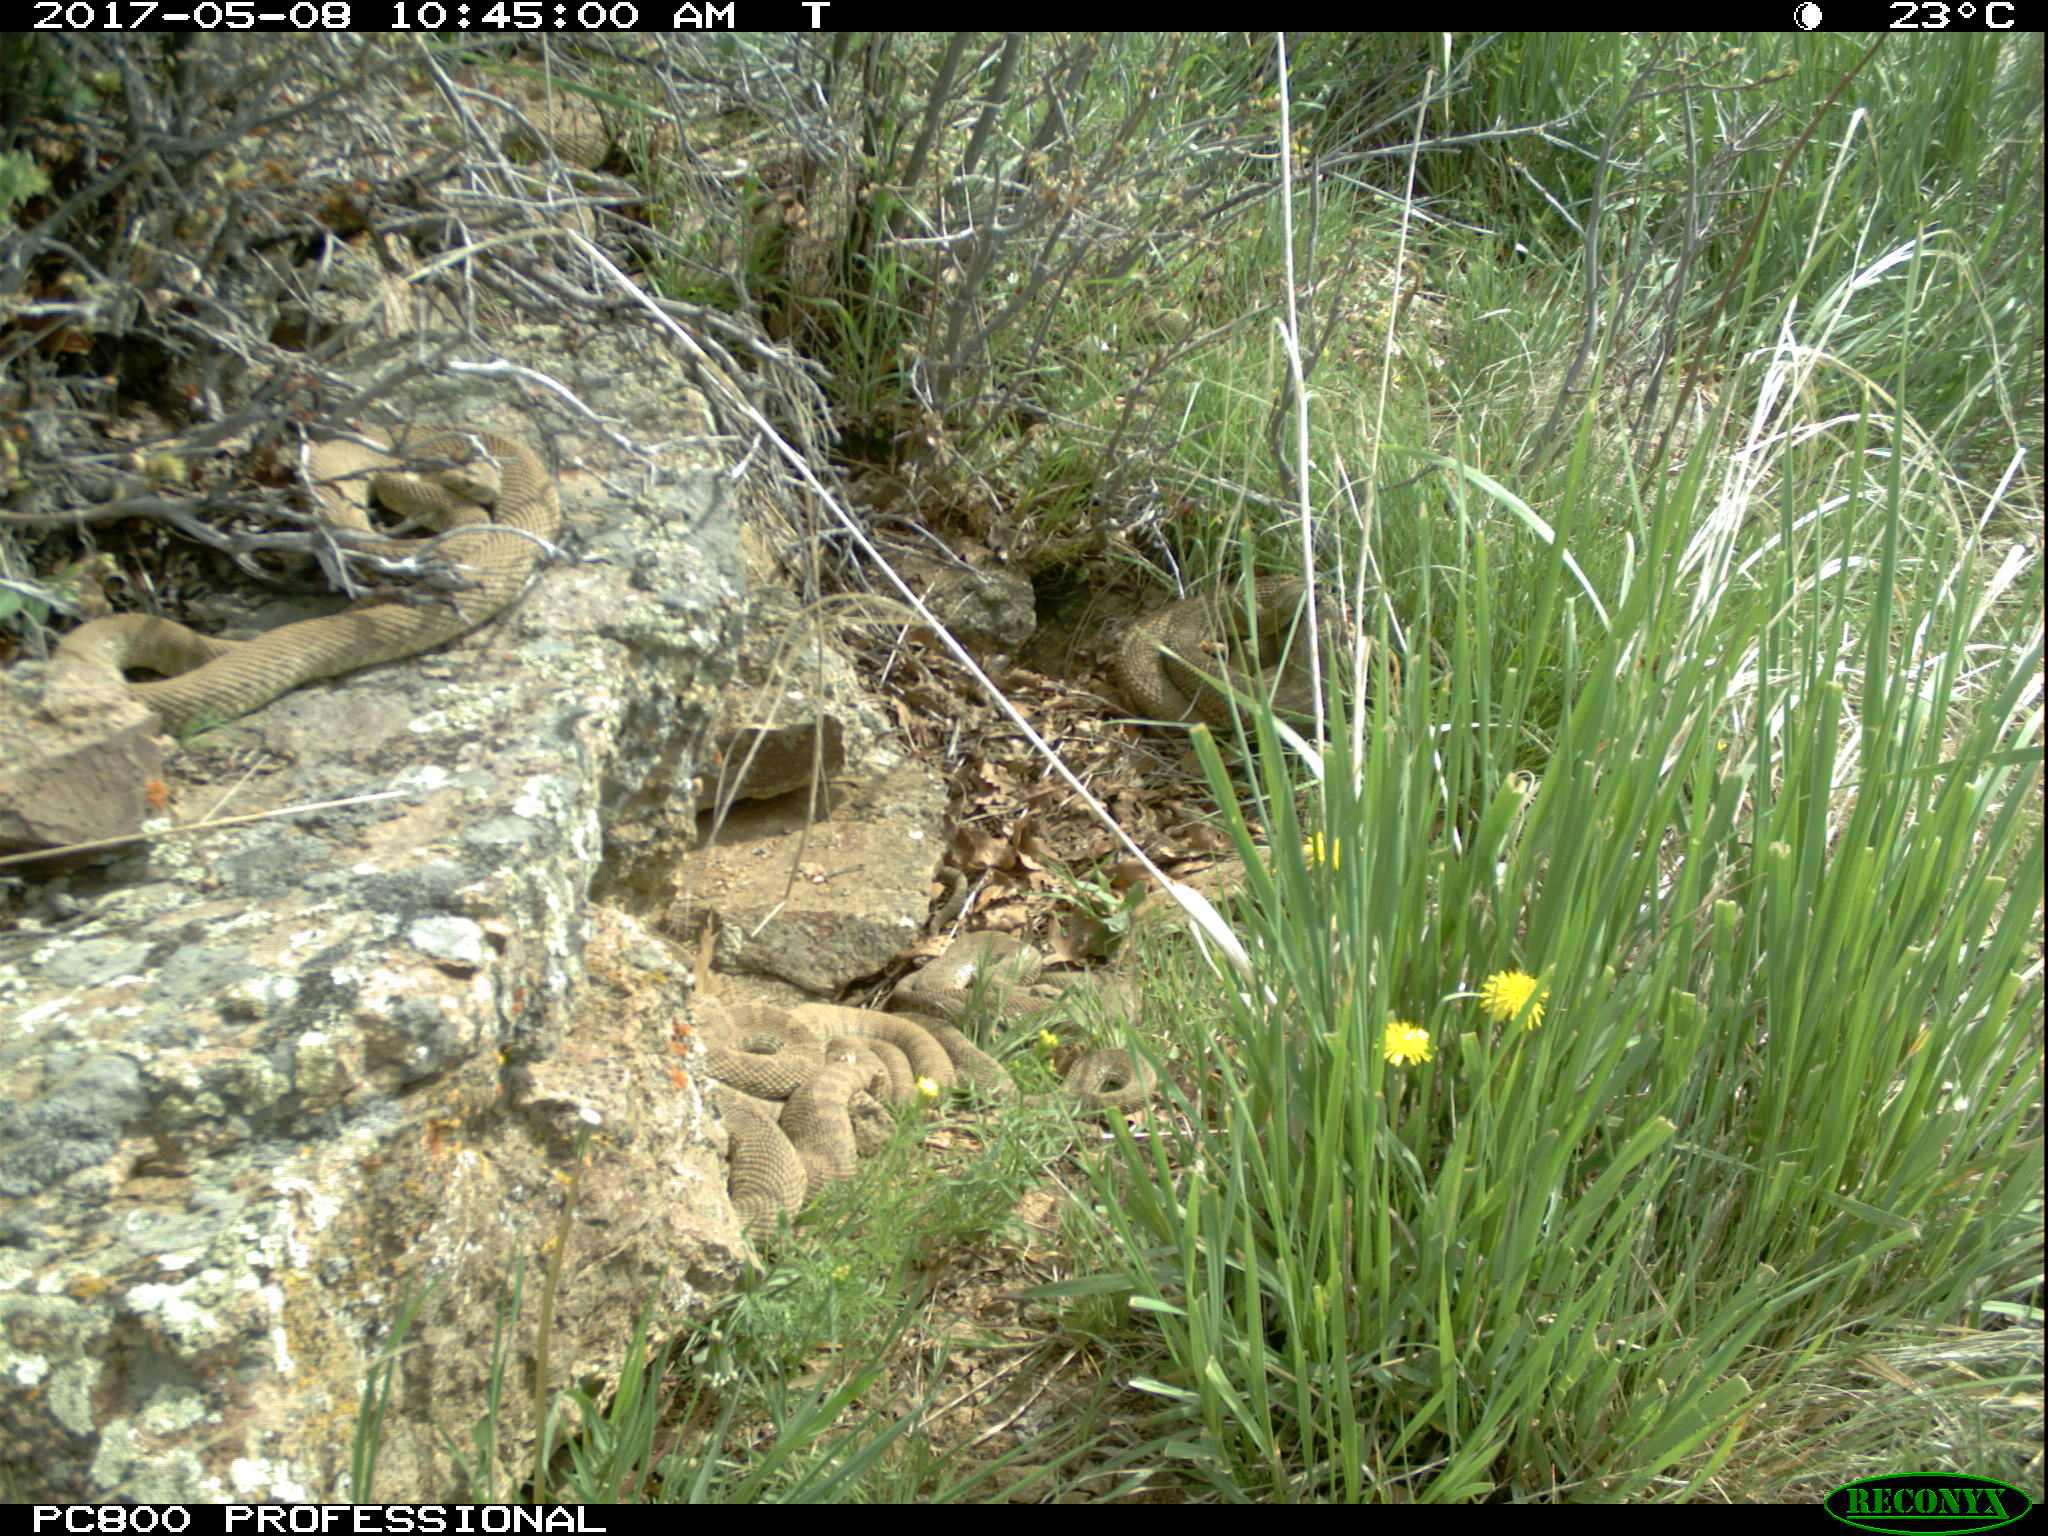snake: (47, 423, 585, 741), (692, 999, 1021, 1233), (1116, 558, 1355, 739), (1030, 1029, 1176, 1128)
